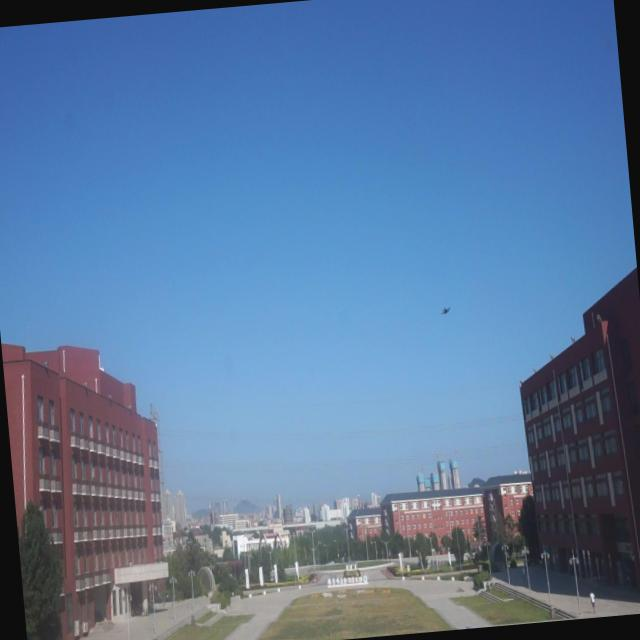drone: (438, 302, 452, 320)
